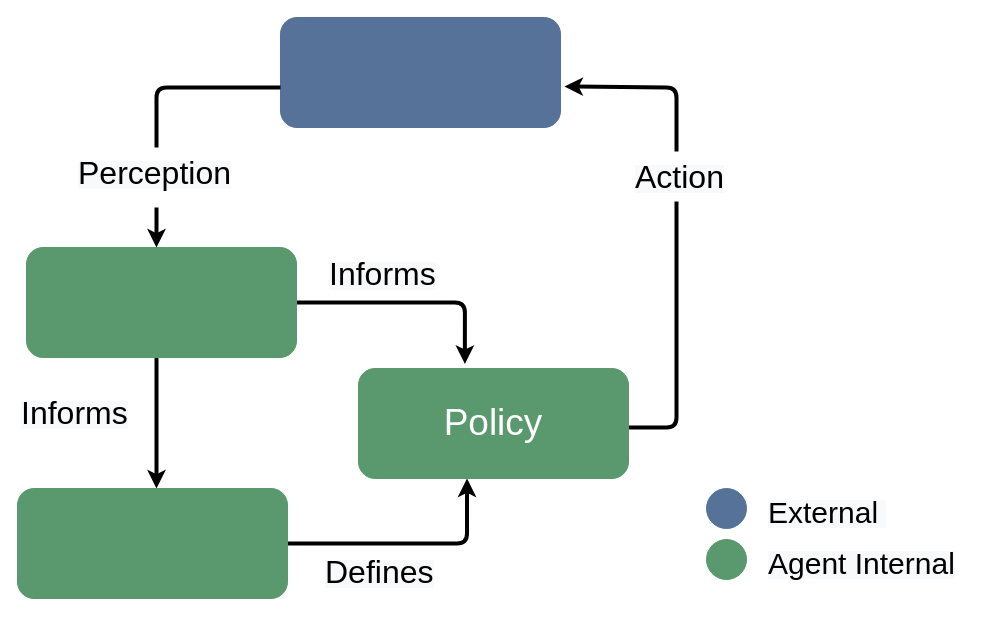
This 994x621 diagram has some shape labels left out. Each missing label, with the centre of its shape:
"Goal Function" belongs at point (152, 543).
"World" belongs at point (420, 72).
"World Model" belongs at point (161, 302).
